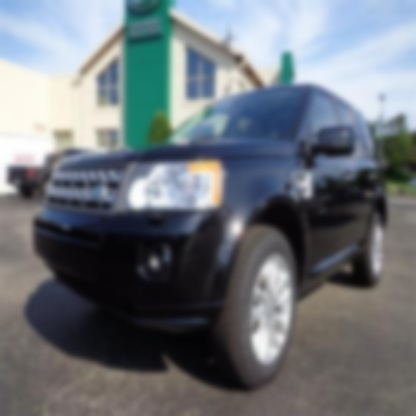Vehicle: (33, 86, 386, 389)
